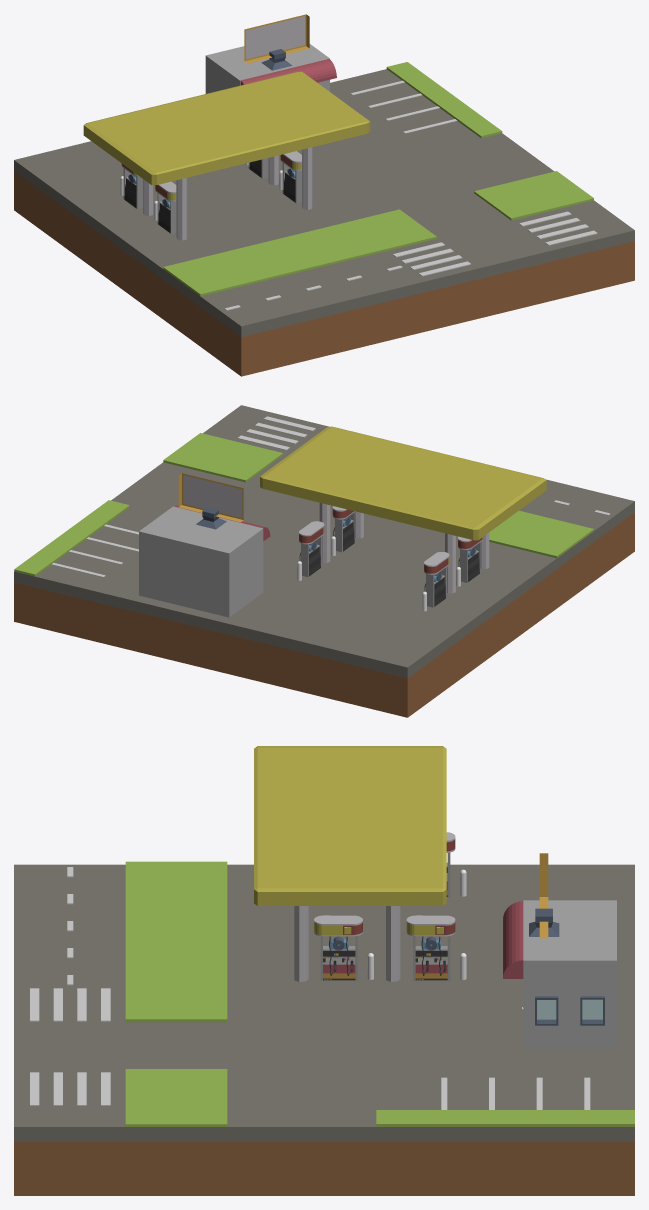
File: gas-station.glb
The picture shows the model from 3 angles, top to bottom: view 1: azimuth 30°, elevation 25°; view 2: azimuth 150°, elevation 25°; view 3: azimuth 270°, elevation 25°; orthographic projection. The views are drawn at different scales.
Visible parts, largest first — view 1: Cube_Cube.001, Cube.005_Cube.006, Cube.001_Cube.002, Cube.002_Cube.003, Cube.126_Cube.007, Cube.132_Cube.136, Cube.127_Cube.128, Cube.003_Cube.004, Cube.004_Cube.005, Cylinder.065_Cylinder.018, Cylinder, Cube.133_Cube.137 (+1 smaller); view 2: Cube_Cube.001, Cube.005_Cube.006, Cube.126_Cube.007, Cube.002_Cube.003, Cube.001_Cube.002, Cube.132_Cube.136, Cube.127_Cube.128, Cube.004_Cube.005, Cube.133_Cube.137, Cylinder.002, Cylinder.003, Cylinder.035_Cylinder.038 (+1 smaller); view 3: Cube_Cube.001, Cube.005_Cube.006, Cube.001_Cube.002, Cube.126_Cube.007, Cube.002_Cube.003, Cube.132_Cube.136, Cylinder.065_Cylinder.018, Cube.003_Cube.004, Cube.004_Cube.005, Cylinder.001, Cylinder.002, Cylinder.035_Cylinder.038 (+5 smaller).
Part boxes in pixels (left/top/right/bottom): Cube_Cube.001: left=14, top=69, right=634, bottom=376; Cube.005_Cube.006: left=83, top=71, right=370, bottom=185; Cube.001_Cube.002: left=163, top=209, right=436, bottom=296; Cube.002_Cube.003: left=474, top=171, right=593, bottom=220; Cube.126_Cube.007: left=205, top=44, right=329, bottom=93; Cube.132_Cube.136: left=386, top=62, right=502, bottom=138; Cube.127_Cube.128: left=244, top=14, right=309, bottom=63; Cube.003_Cube.004: left=392, top=242, right=470, bottom=276; Cube.004_Cube.005: left=519, top=211, right=597, bottom=245; Cylinder.065_Cylinder.018: left=240, top=59, right=336, bottom=85; Cylinder: left=176, top=178, right=187, bottom=240; Cube.133_Cube.137: left=351, top=80, right=457, bottom=133; Cube_Cube.001: left=14, top=405, right=634, bottom=717; Cube.005_Cube.006: left=260, top=426, right=546, bottom=540; Cube.126_Cube.007: left=139, top=506, right=263, bottom=617; Cube.002_Cube.003: left=163, top=433, right=283, bottom=482; Cube.001_Cube.002: left=489, top=510, right=593, bottom=558; Cube.132_Cube.136: left=14, top=500, right=129, bottom=576; Cube.127_Cube.128: left=178, top=473, right=243, bottom=522; Cube.004_Cube.005: left=237, top=416, right=315, bottom=450; Cube.133_Cube.137: left=51, top=524, right=138, bottom=577; Cylinder.002: left=319, top=503, right=330, bottom=562; Cylinder.003: left=445, top=533, right=455, bottom=593; Cylinder.035_Cylinder.038: left=299, top=521, right=324, bottom=544; Cube_Cube.001: left=14, top=864, right=634, bottom=1195; Cube.005_Cube.006: left=254, top=746, right=446, bottom=905; Cube.001_Cube.002: left=125, top=861, right=227, bottom=1022; Cube.126_Cube.007: left=523, top=900, right=616, bottom=1048; Cube.002_Cube.003: left=125, top=1069, right=227, bottom=1126; Cube.132_Cube.136: left=376, top=1110, right=634, bottom=1126; Cylinder.065_Cylinder.018: left=503, top=901, right=523, bottom=978; Cube.003_Cube.004: left=30, top=988, right=110, bottom=1021; Cube.004_Cube.005: left=30, top=1072, right=110, bottom=1105; Cylinder.001: left=294, top=906, right=308, bottom=981; Cylinder.002: left=386, top=906, right=400, bottom=981; Cylinder.035_Cylinder.038: left=406, top=915, right=455, bottom=936.
Bounding box in the file's own units: 8.33 × 3.14 × 8.31.
